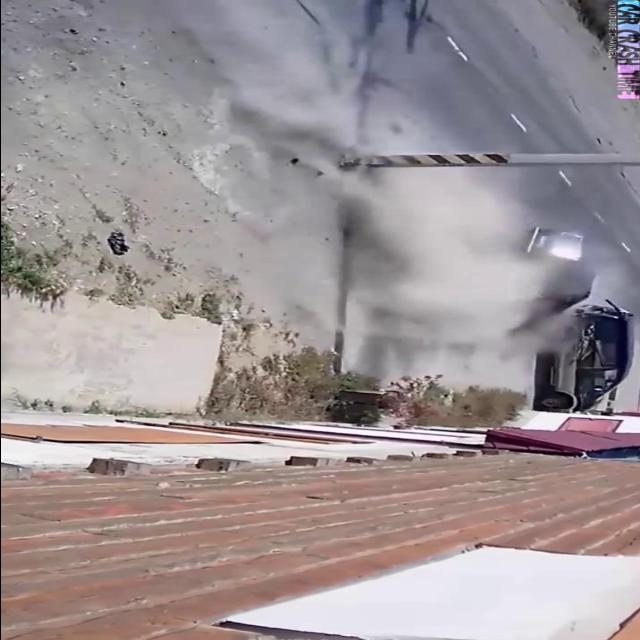accident: (466, 222, 638, 417)
